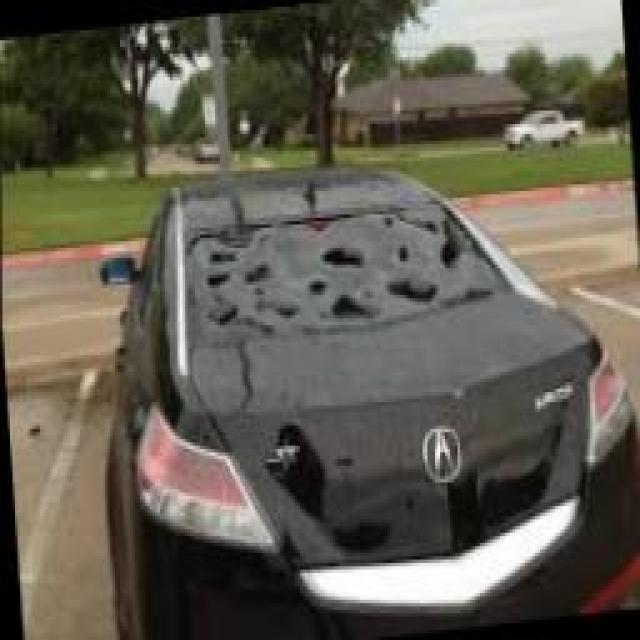replaceable: (175, 192, 517, 326)
